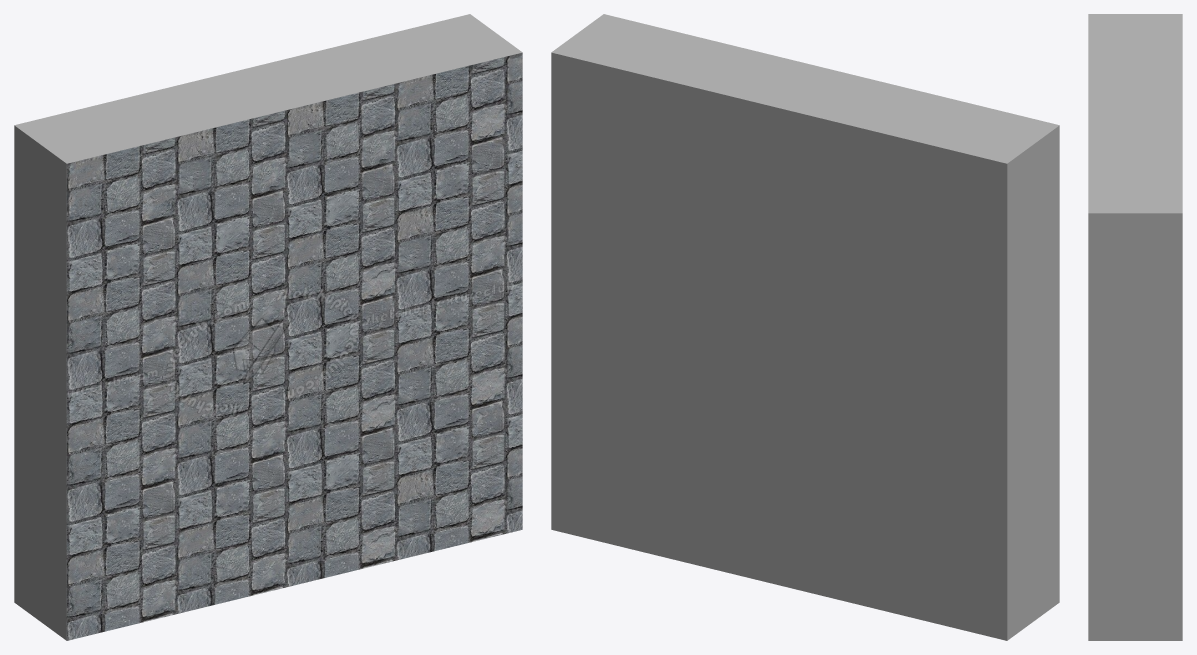
File: lv03-floor-moving-tile-cobblestone.obj
3 views of the same model, side by side, from view 1: azimuth 30°, elevation 25°; view 2: azimuth 150°, elevation 25°; view 3: azimuth 270°, elevation 25° (orthographic). The views are drawn at different scales.
Visible parts, largest first — view 1: Object.1; view 2: Object.1; view 3: Object.1.
Boxes of the visible parts, x1,y1,x2,y2 form: Object.1: [14, 14, 522, 640]; Object.1: [551, 14, 1059, 640]; Object.1: [1088, 14, 1182, 640].
Size of the model in its own units: 645 by 645 by 129.
Materials: 2 (1 with a texture image).
